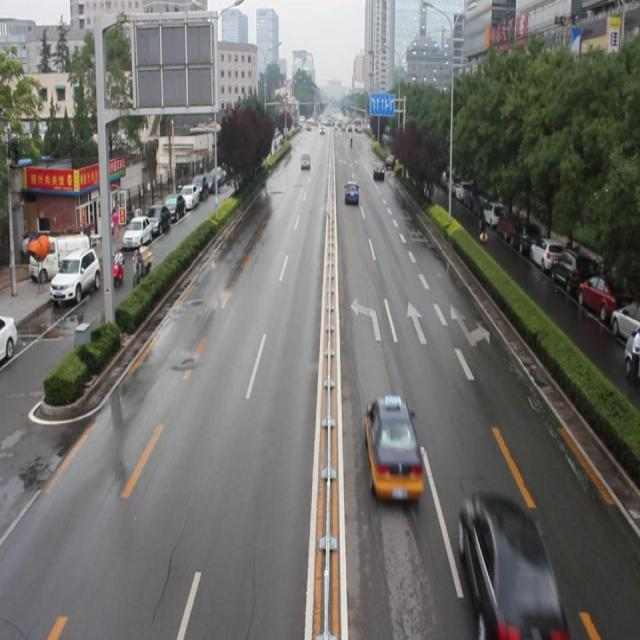car: (456, 496, 564, 640), (364, 393, 423, 501), (344, 180, 359, 203), (372, 160, 384, 181)
